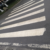zebra: (1, 1, 46, 37)
